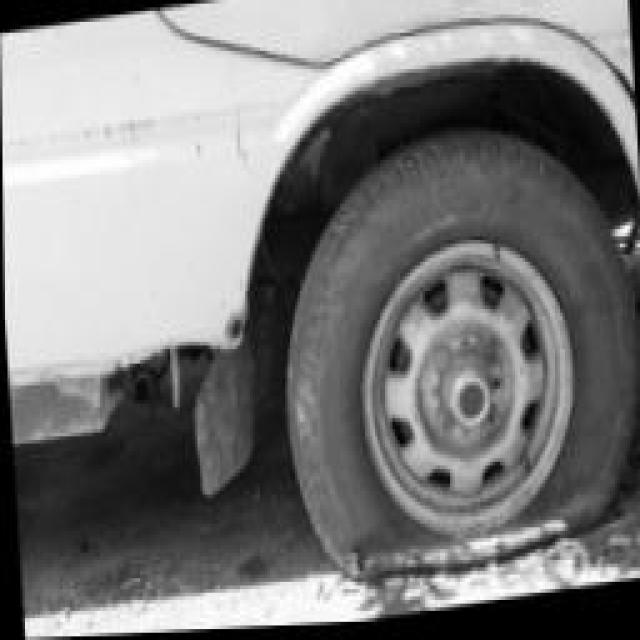Bumper: (0, 47, 277, 241)
